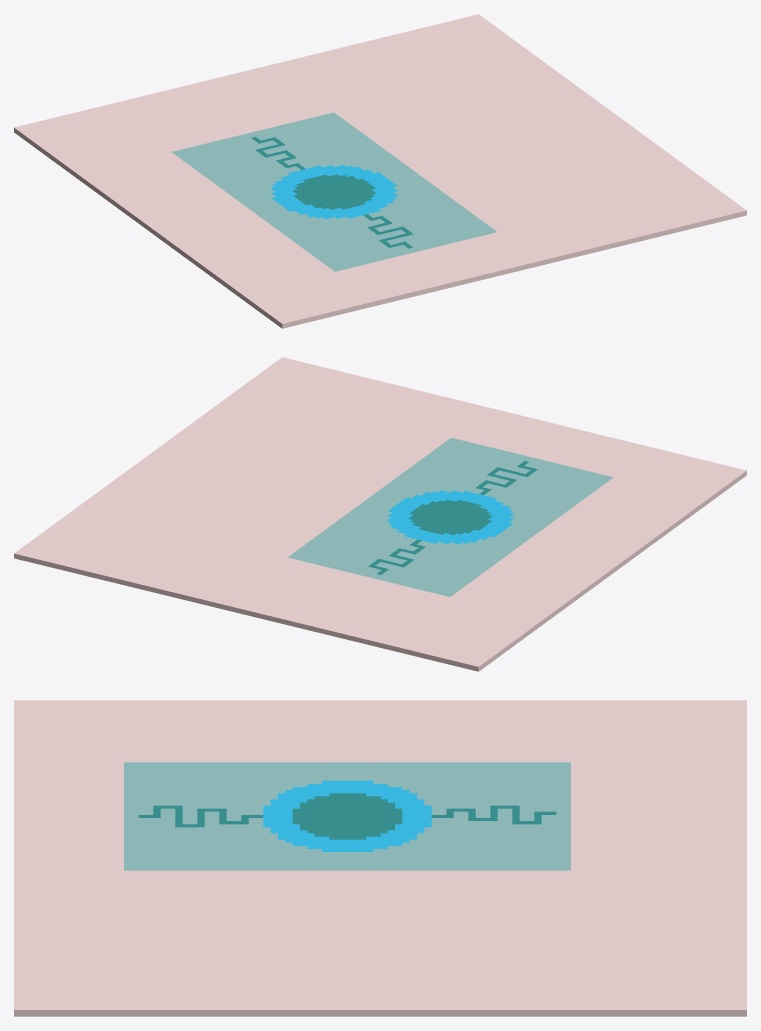
The model's file is FloorWithCarpet.obj.
3 renders of one model, top to bottom at view 1: azimuth 30°, elevation 25°; view 2: azimuth 150°, elevation 25°; view 3: azimuth 270°, elevation 25°, orthographic. The views are drawn at different scales.
Parts seen in each view (by area): view 1: FloorWithCarpet; view 2: FloorWithCarpet; view 3: FloorWithCarpet.
Part boxes in pixels (x1=…): FloorWithCarpet: x1=14, y1=14, x2=746, y2=328; FloorWithCarpet: x1=14, y1=357, x2=746, y2=671; FloorWithCarpet: x1=14, y1=700, x2=746, y2=1016.
Size of the model in its own units: 100 by 1 by 100.
Materials: 1 (1 with a texture image).
